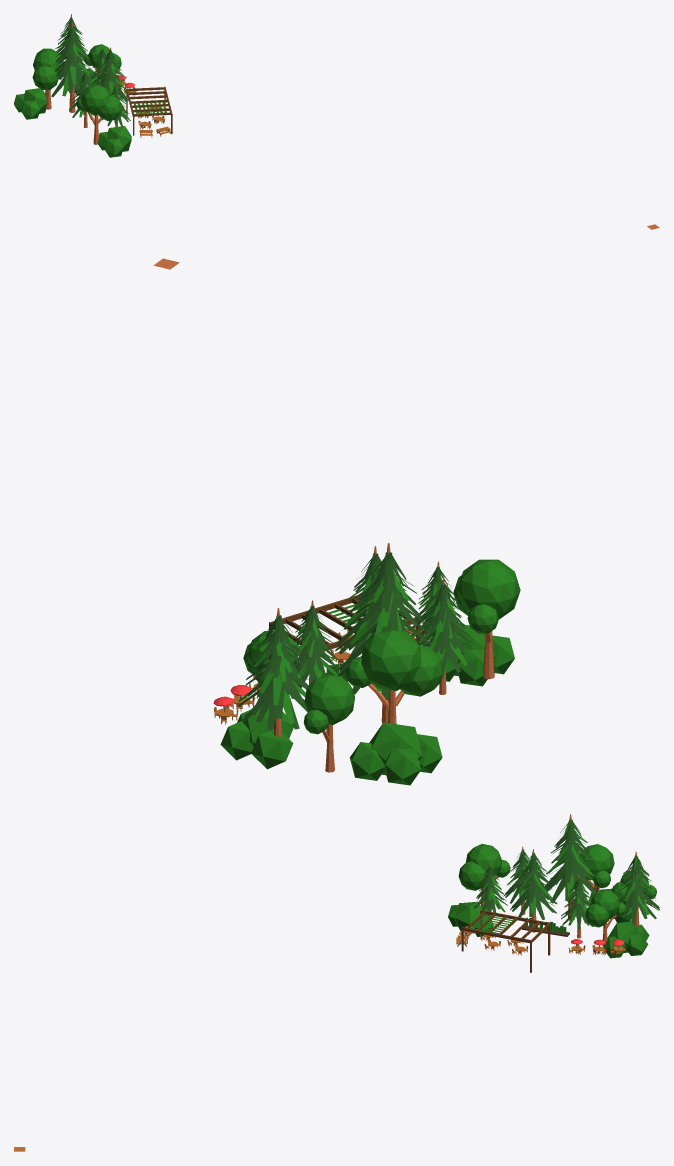
Rendered from solution_6_park.fbx.
3 renders of one model, top to bottom at view 1: azimuth 30°, elevation 25°; view 2: azimuth 150°, elevation 25°; view 3: azimuth 270°, elevation 25°, orthographic. The views are drawn at different scales.
Visible parts, largest first — view 1: solution_6_park; view 2: solution_6_park; view 3: solution_6_park.
Part boxes in pixels (bbox=[...]): solution_6_park: bbox=[14, 14, 659, 229]; solution_6_park: bbox=[153, 258, 520, 785]; solution_6_park: bbox=[14, 814, 659, 1151].
Bounding box in the file's own units: 9233 × 2650 × 11329.
